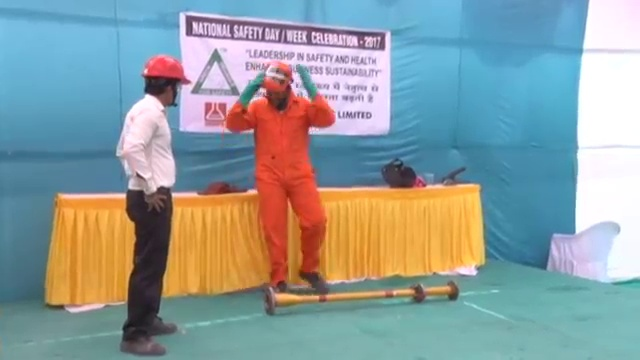helmet: (142, 54, 193, 84), (263, 57, 295, 95)
helmet_on: (139, 53, 194, 107), (261, 59, 299, 108)
person: (220, 58, 338, 291), (113, 52, 195, 359)
